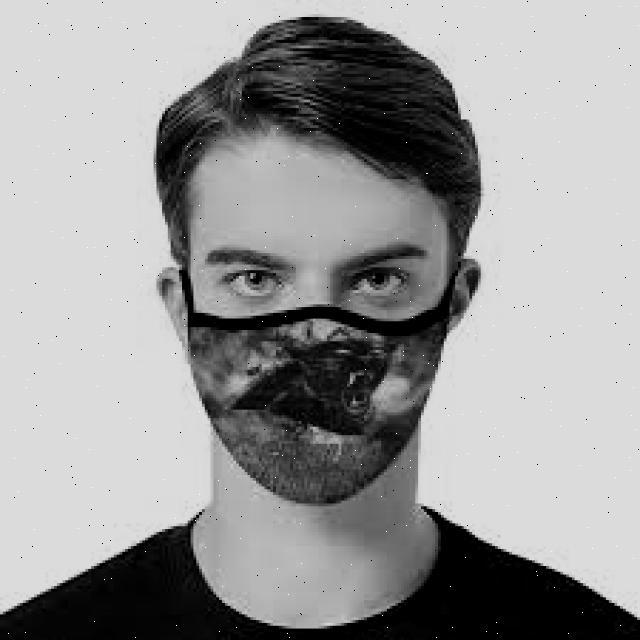fake: (175, 291, 456, 511)
real: (189, 139, 448, 525)
